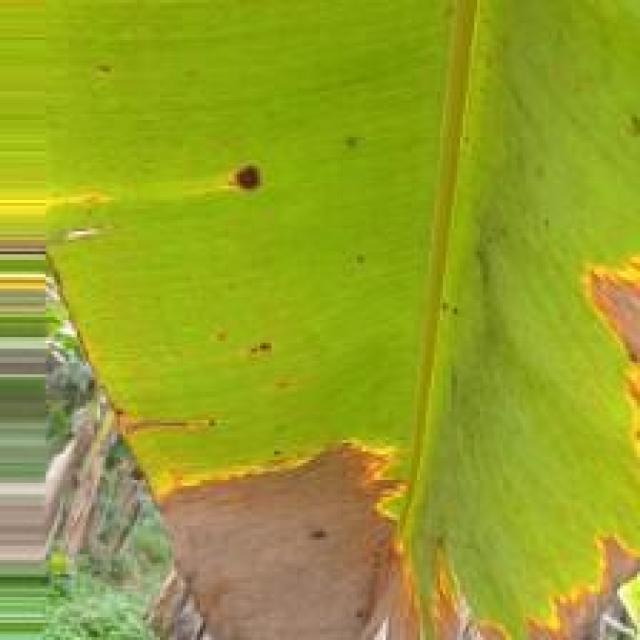Bacterial_spot: (140, 431, 443, 640), (428, 480, 637, 640), (565, 232, 640, 438), (210, 310, 310, 399), (113, 413, 232, 448), (219, 148, 276, 208), (54, 219, 108, 250), (90, 53, 128, 85)
